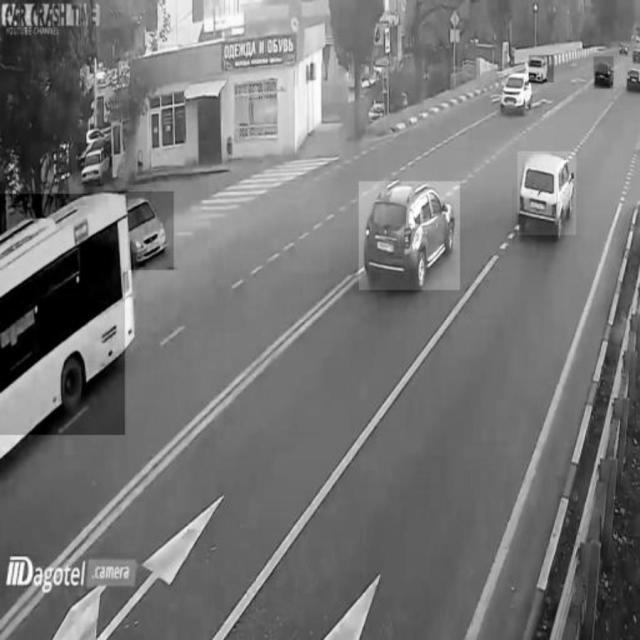vehicle: (0, 194, 124, 435), (359, 182, 460, 290), (518, 152, 576, 235), (119, 192, 174, 270), (78, 143, 115, 187), (502, 69, 532, 114), (530, 56, 555, 83), (594, 57, 614, 89), (625, 61, 640, 98)
